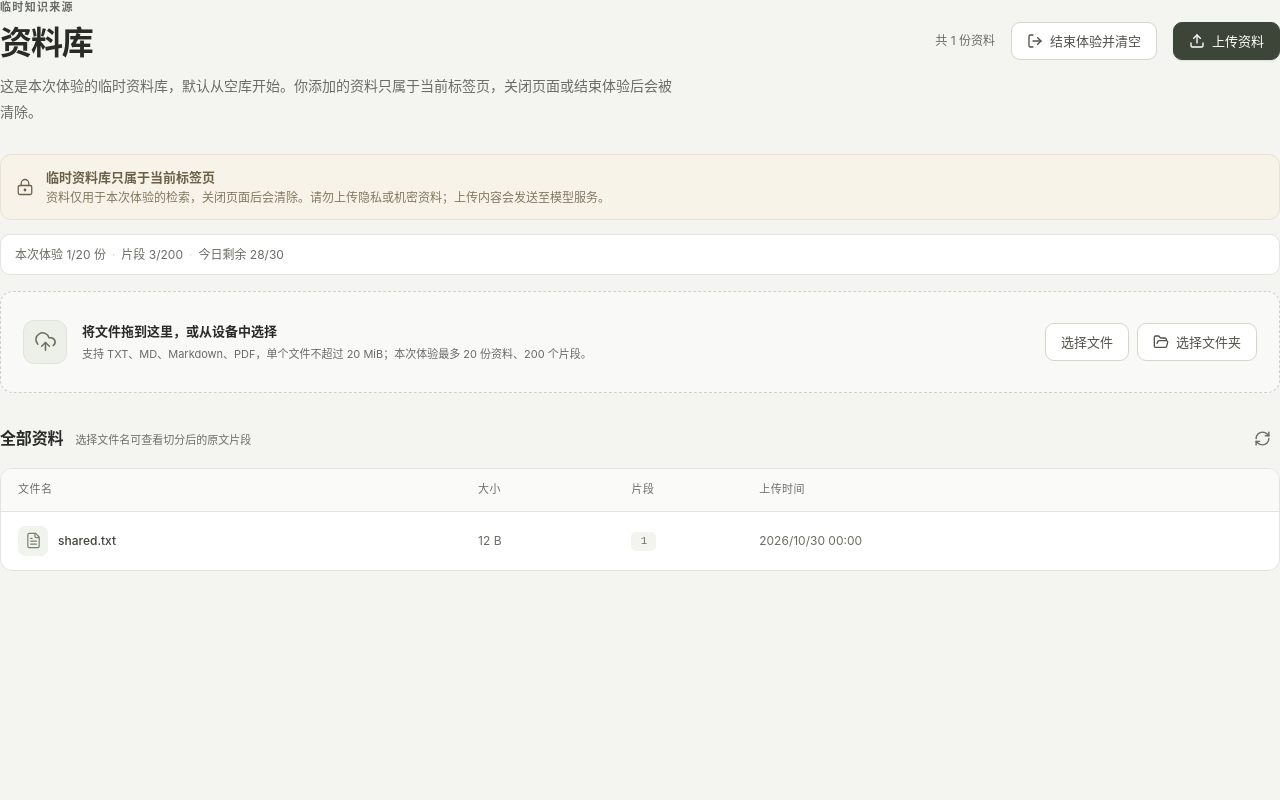
Test: DocumentsPage folder upload › ends the experience only after confirmation and clears the temporary library
Click the button "结束体验并清空".
click(1084, 41)  # box [1011,22,1157,60]
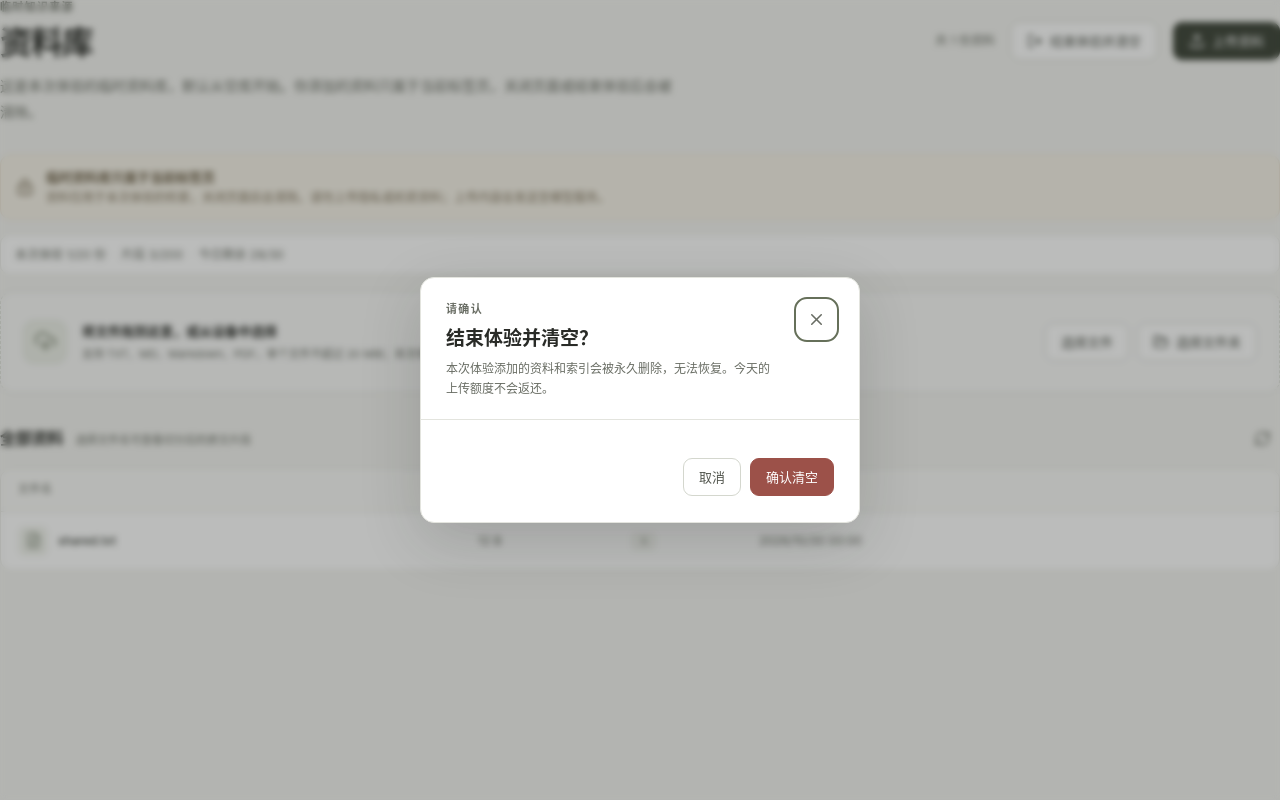
Now the dialog shows "本次体验添加的资料和索引会被永久删除，无法恢复。今天的上传额度不会返还。", box [446,361,770,396]
Click the button "确认清空".
click(792, 477)  # box [750,458,834,496]
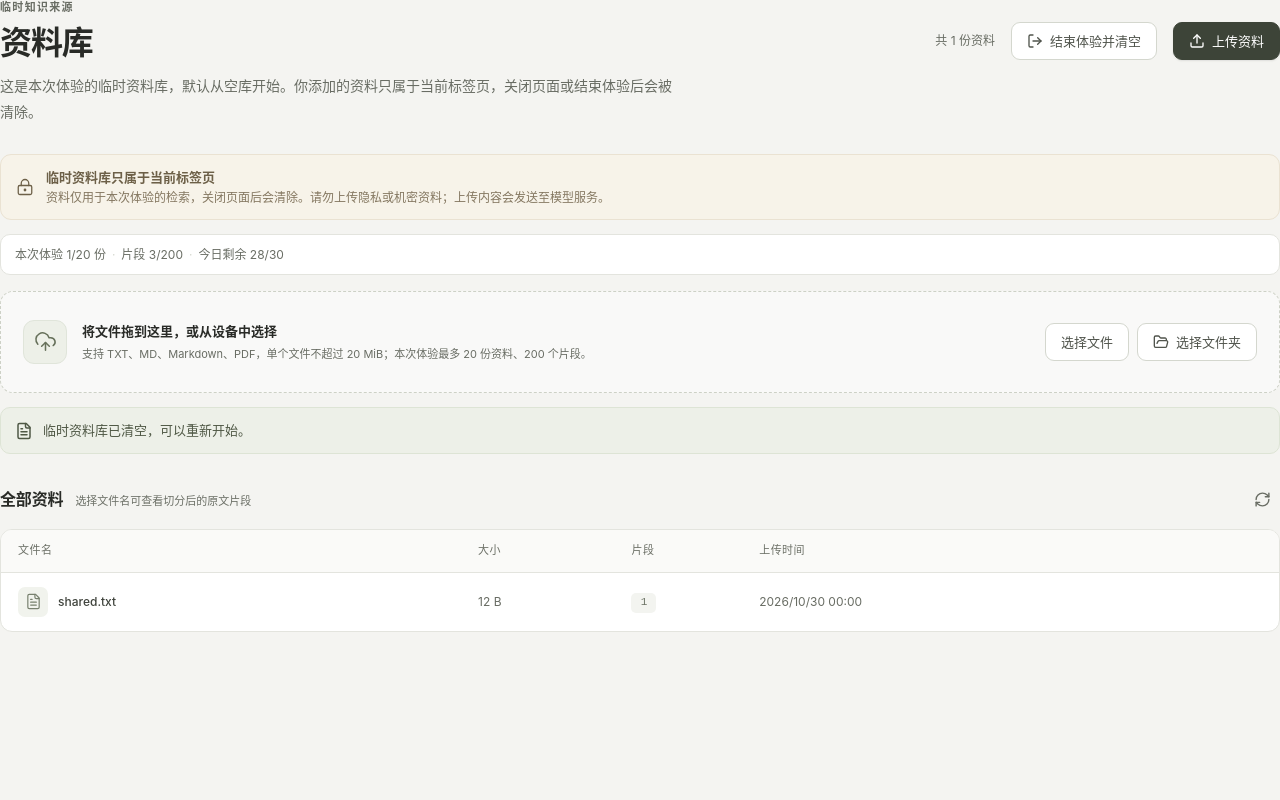
Now the text "临时资料库已清空，可以重新开始。" is shown, box [43,420,251,441]
